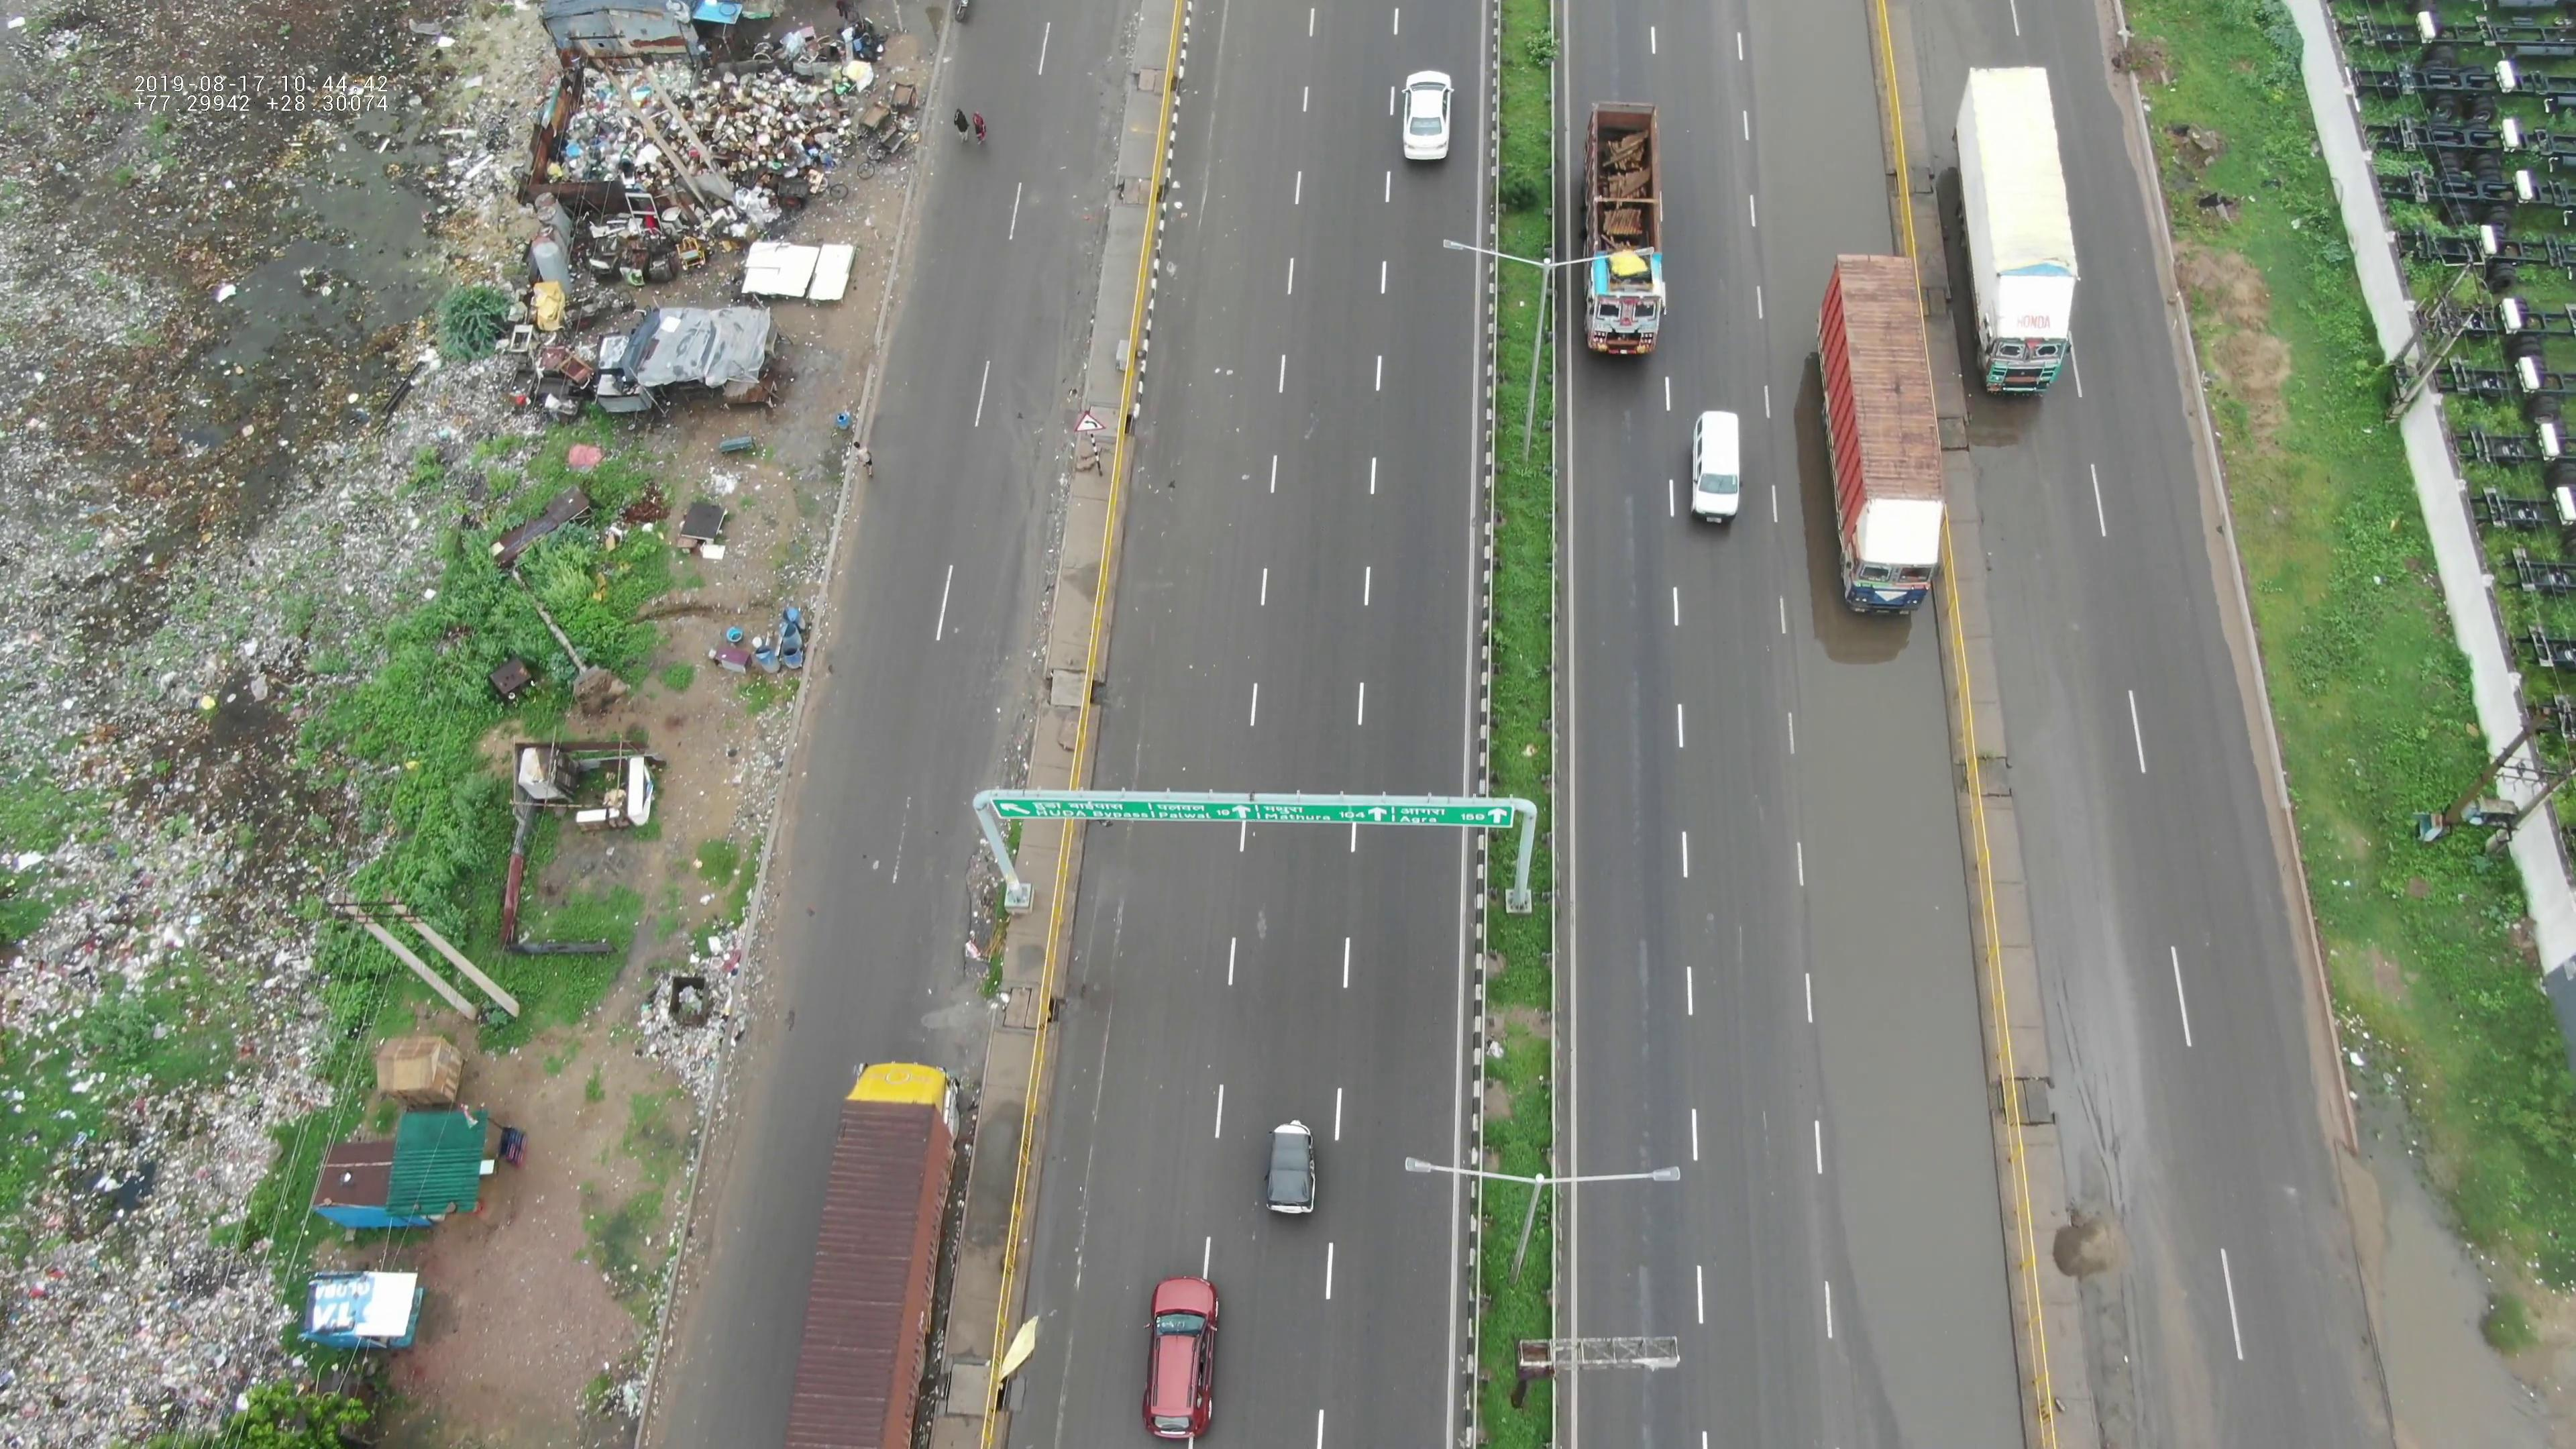Road_side_garbage: (16, 1134, 287, 1437), (594, 897, 743, 1095)
